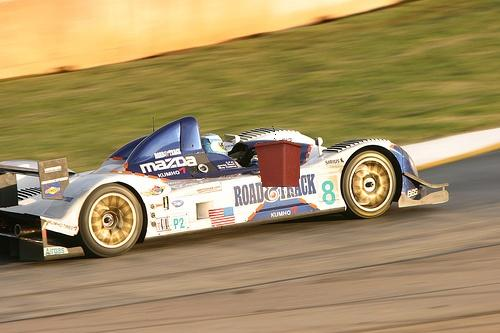tampered: (255, 127, 301, 187)
